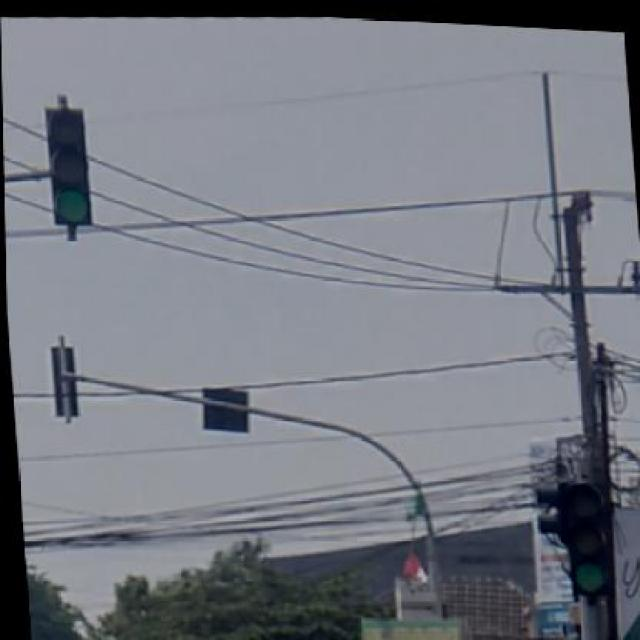green_light: (43, 105, 95, 228), (559, 476, 610, 590)
